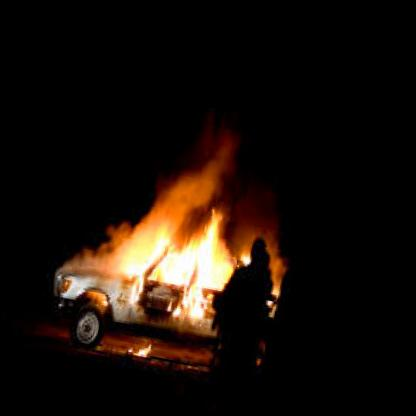fire: (34, 102, 311, 366)
